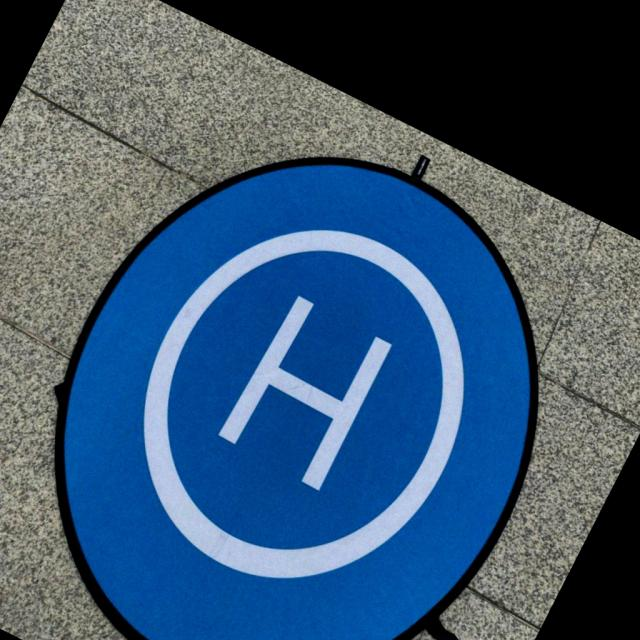helipad: (135, 225, 469, 584)
